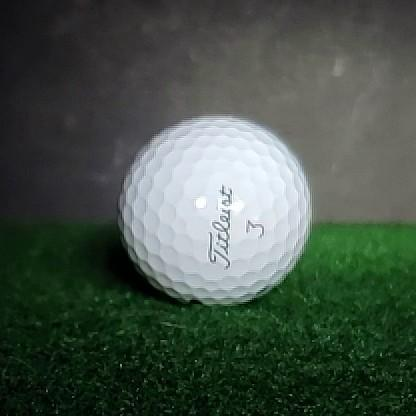golfball: (116, 116, 312, 306)
